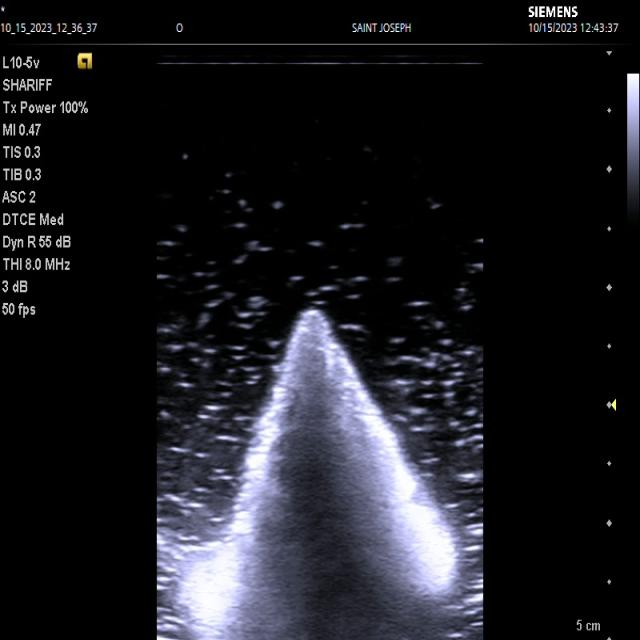tissue: (169, 308, 482, 640)
